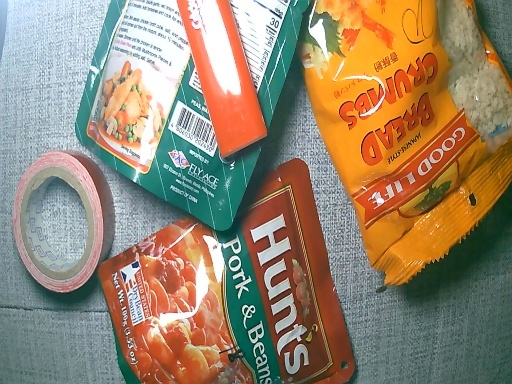plastic: (289, 1, 512, 287), (72, 1, 305, 227), (98, 159, 317, 384)
trash: (10, 154, 115, 297), (179, 1, 273, 157)
